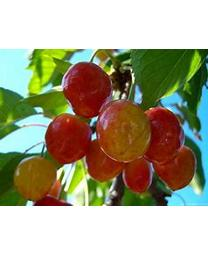cherry: (97, 100, 151, 164), (61, 61, 114, 118), (140, 107, 185, 164), (151, 143, 198, 191), (47, 114, 92, 162), (13, 155, 57, 199)
